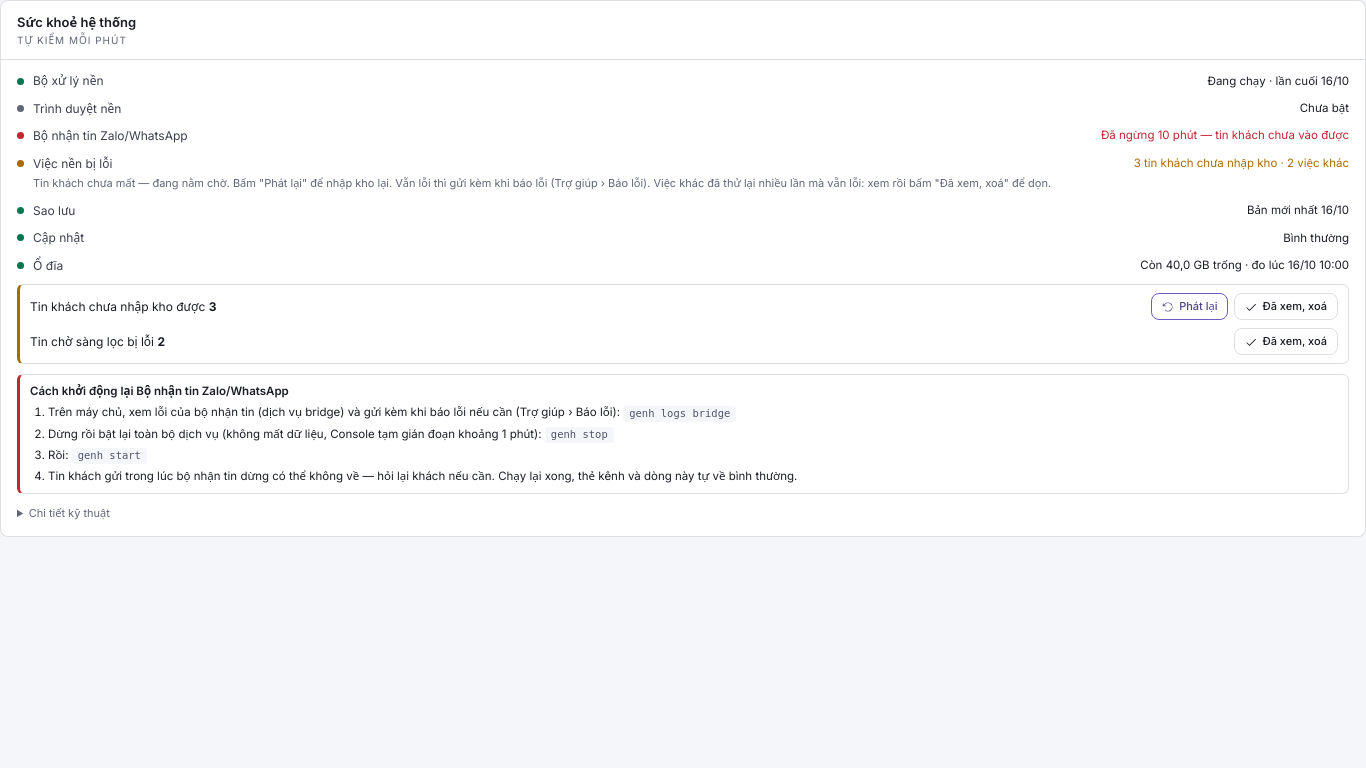
<HealthCard> — hàng lỗi có lối xử lý › "Phát lại" gọi đúng đường, báo kết quả bằng câu thân thiện và làm mới thẻ
The width and height of the screenshot is (1366, 768).
Step 1. Click the button "Phát lại" → x=1190, y=306, box [1151,293,1228,320]
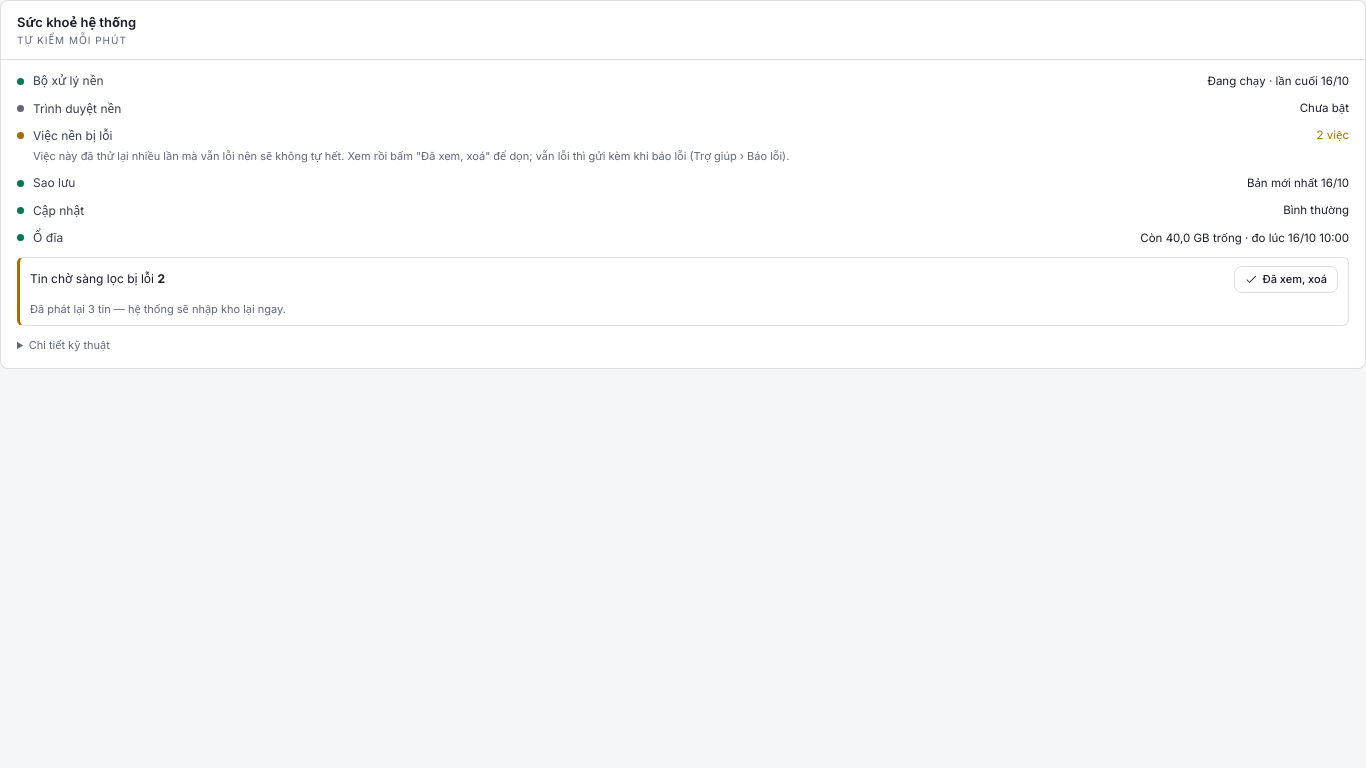
Expected: the message with test id "health-queue-done" shows "Đã phát lại 3 tin", [30,302,286,316]
